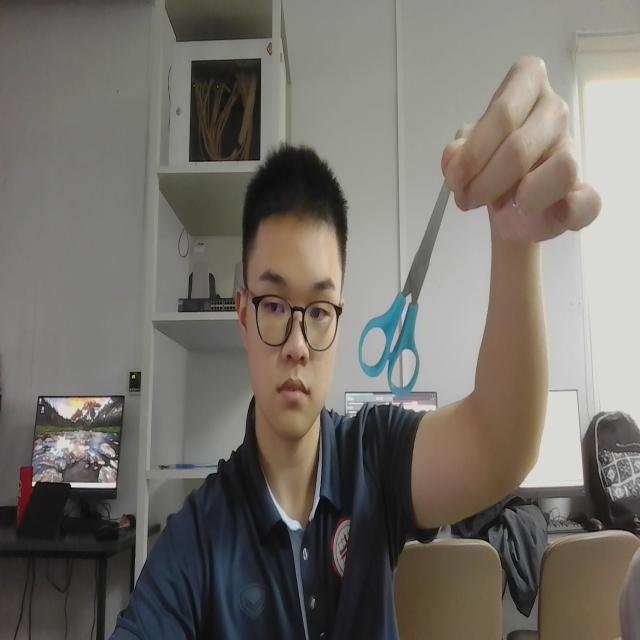scissors: (353, 140, 458, 406)
